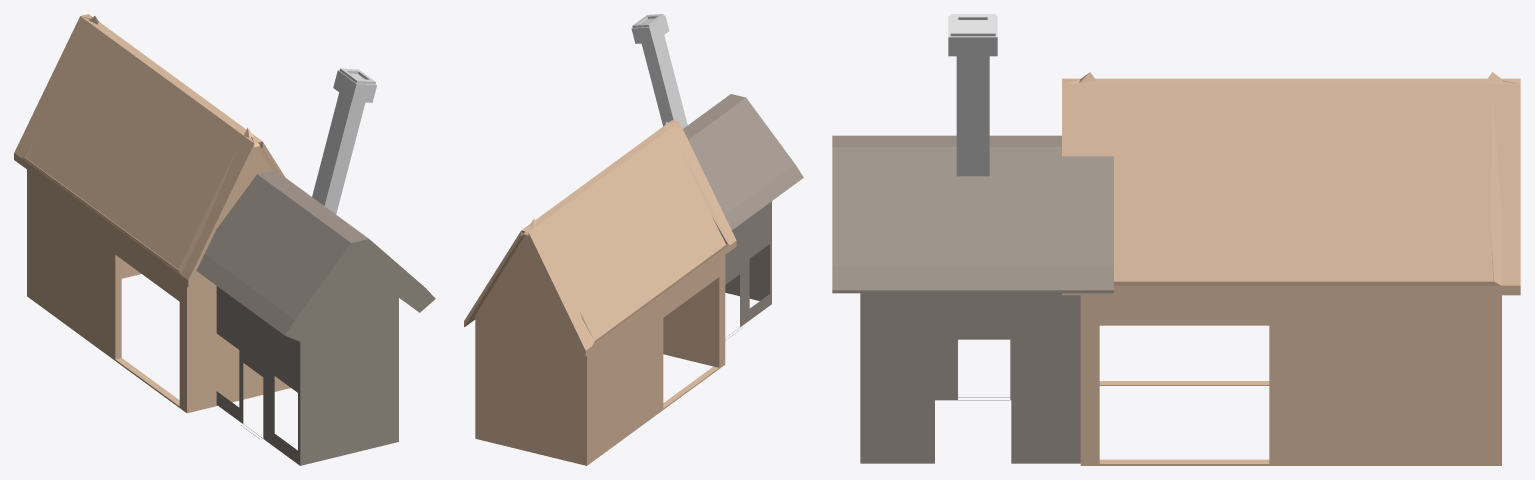
Rendered from House.fbx.
The picture shows the model from 3 angles, left to right: view 1: azimuth 30°, elevation 25°; view 2: azimuth 150°, elevation 25°; view 3: azimuth 270°, elevation 25°; orthographic projection. The views are drawn at different scales.
Parts seen in each view (by area): view 1: Cube.002, Cube, Cube.001, cHIMNNE; view 2: Cube.002, Cube.001, Cube, cHIMNNE; view 3: Cube.002, Cube.001, Cube, cHIMNNE.
Boxes of the visible parts, <box> form: Cube.002: <box>14,14,290,413</box>; Cube: <box>216,252,398,465</box>; Cube.001: <box>196,170,435,341</box>; cHIMNNE: <box>312,68,376,214</box>; Cube.002: <box>464,120,736,465</box>; Cube.001: <box>683,94,803,230</box>; Cube: <box>725,201,771,338</box>; cHIMNNE: <box>631,14,687,128</box>; Cube.002: <box>1062,72,1520,465</box>; Cube.001: <box>832,135,1113,293</box>; Cube: <box>860,293,1080,463</box>; cHIMNNE: <box>948,14,997,176</box>.
Size of the model in its own units: 1301 by 2626 by 3668.
